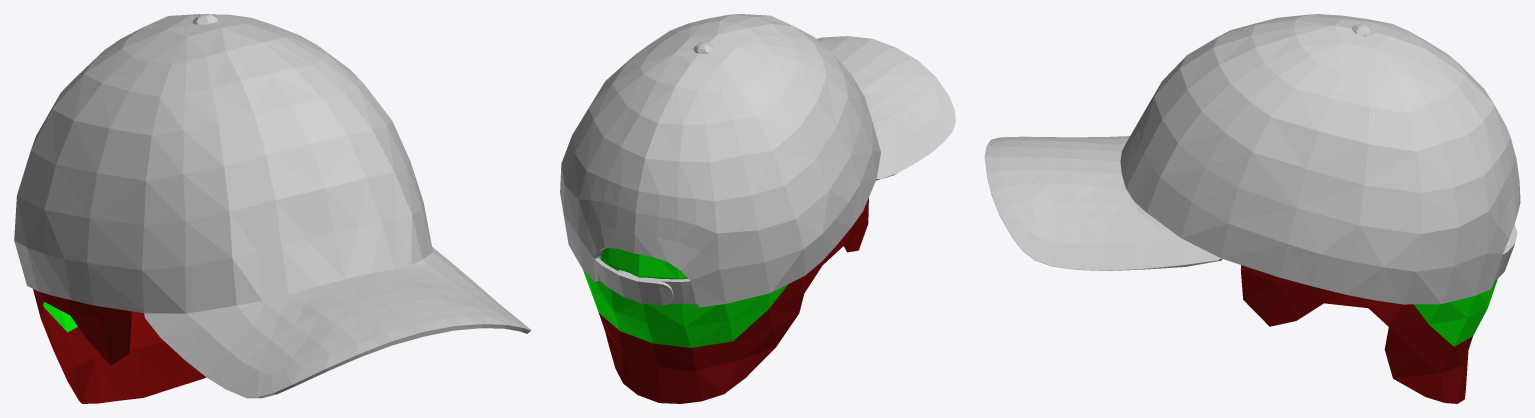
Rendered from BaseballHat_Hair_03.obj.
The picture shows the model from 3 angles, left to right: view 1: azimuth 30°, elevation 25°; view 2: azimuth 150°, elevation 25°; view 3: azimuth 270°, elevation 25°; orthographic projection. The views are drawn at different scales.
Size of the model in its own units: 15.81 by 19.37 by 25.74.
